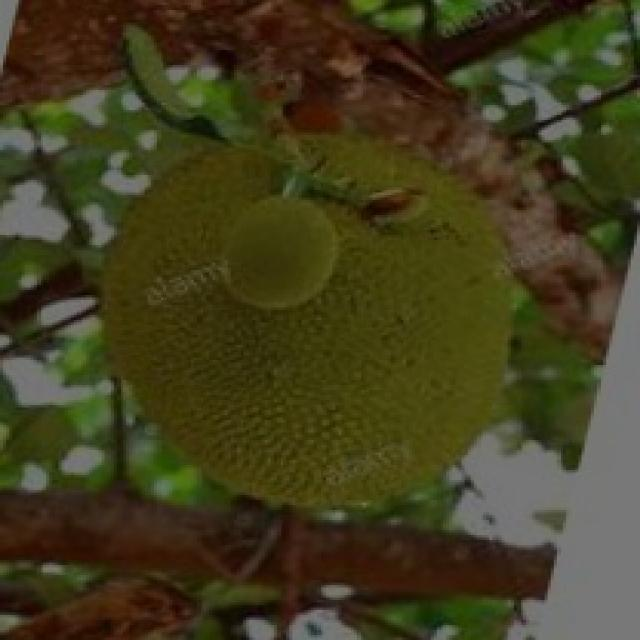Fruit: (62, 120, 369, 342)
